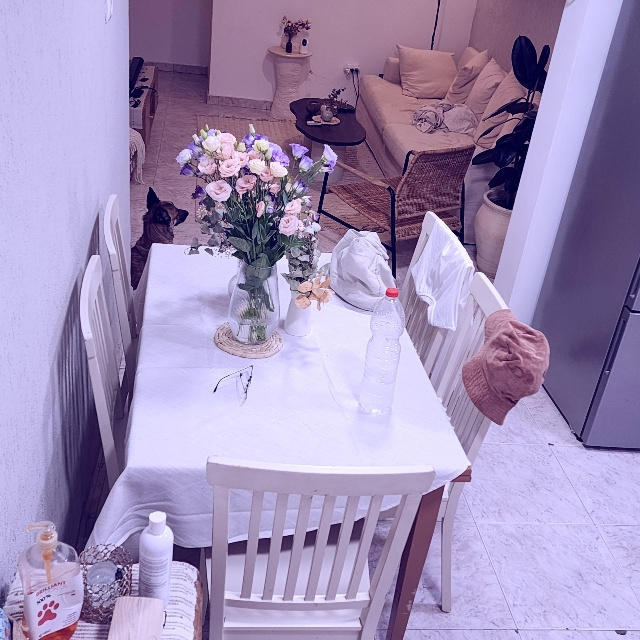glasses: (211, 362, 257, 400)
